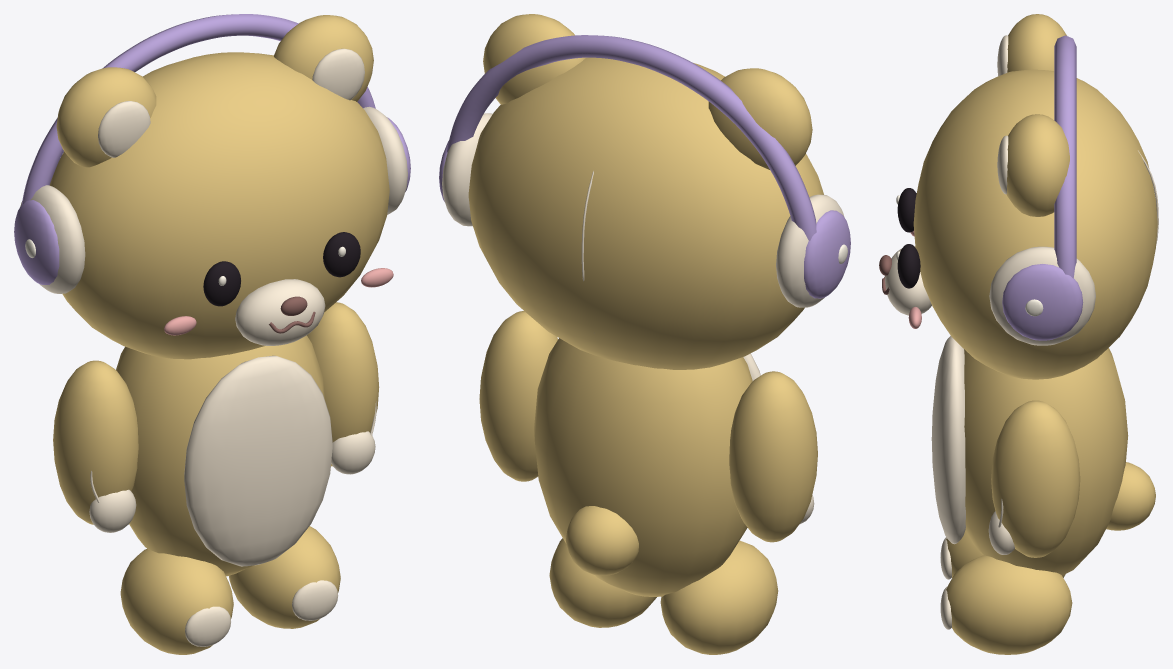
The model's file is buttercup-bear.glb.
3 renders of one model, left to right at view 1: azimuth 30°, elevation 25°; view 2: azimuth 150°, elevation 25°; view 3: azimuth 270°, elevation 25°, orthographic. The views are drawn at different scales.
Parts seen in each view (by area): view 1: HeadSurface, BodySurface, LeftArmSurface, LeftFootSurface, RightArmSurface, RightFootSurface, RightEyeSurface, LeftEyeSurface; view 2: HeadSurface, BodySurface, LeftArmSurface, RightArmSurface, LeftFootSurface, RightFootSurface, Bear tail; view 3: HeadSurface, BodySurface, RightArmSurface, RightFootSurface, Bear tail, LeftFootSurface, RightEyeSurface, LeftEyeSurface.
Boxes of the visible parts, bbox=[...] form: HeadSurface: bbox=[14, 14, 410, 359]; BodySurface: bbox=[116, 335, 332, 576]; LeftArmSurface: bbox=[53, 360, 138, 532]; LeftFootSurface: bbox=[120, 549, 233, 654]; RightArmSurface: bbox=[307, 302, 379, 474]; RightFootSurface: bbox=[229, 526, 340, 628]; RightEyeSurface: bbox=[323, 232, 360, 277]; LeftEyeSurface: bbox=[203, 261, 240, 306]; HeadSurface: bbox=[439, 14, 850, 369]; BodySurface: bbox=[534, 338, 760, 596]; LeftArmSurface: bbox=[729, 371, 817, 542]; RightArmSurface: bbox=[479, 311, 557, 481]; LeftFootSurface: bbox=[660, 540, 778, 654]; RightFootSurface: bbox=[549, 538, 656, 627]; Bear tail: bbox=[566, 506, 638, 575]; HeadSurface: bbox=[879, 14, 1158, 379]; BodySurface: bbox=[931, 336, 1128, 575]; RightArmSurface: bbox=[988, 400, 1080, 557]; RightFootSurface: bbox=[940, 555, 1072, 654]; Bear tail: bbox=[1106, 462, 1155, 530]; LeftFootSurface: bbox=[940, 530, 1065, 579]; RightEyeSurface: bbox=[896, 244, 920, 288]; LeftEyeSurface: bbox=[896, 188, 916, 232].
Size of the model in its own units: 1.2 by 1.8 by 0.802.
